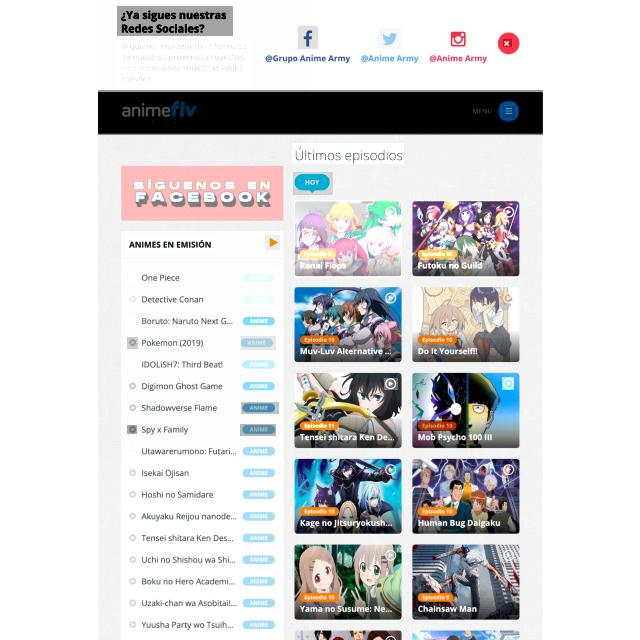Input field: (116, 39, 252, 88)
RadioButton: (293, 172, 333, 195), (240, 270, 278, 284), (240, 292, 276, 306), (242, 336, 278, 350), (417, 334, 458, 346), (241, 314, 276, 328), (300, 334, 340, 346), (241, 402, 279, 414), (298, 248, 336, 260), (299, 420, 339, 431), (417, 420, 457, 431), (240, 424, 276, 436), (418, 250, 458, 260), (243, 359, 276, 371), (243, 381, 275, 391)
bag: (98, 90, 543, 135)
breadcrumbs: (117, 6, 233, 36), (292, 143, 404, 164), (128, 237, 214, 251)
carousel: (447, 28, 470, 50), (378, 28, 401, 49), (298, 26, 318, 49), (265, 236, 280, 252), (384, 378, 398, 390), (502, 377, 514, 390), (503, 106, 515, 118), (127, 337, 138, 349), (128, 380, 138, 391), (128, 358, 137, 370), (128, 446, 138, 456), (128, 294, 137, 304), (128, 316, 137, 326), (128, 404, 138, 413), (127, 425, 137, 434), (129, 272, 137, 283), (504, 39, 514, 47)
content: (120, 166, 284, 220)
copy: (294, 200, 402, 278), (412, 200, 520, 278)
data feed: (470, 106, 495, 117)
date picker: (118, 100, 201, 128)
decoration: (501, 102, 518, 120)
